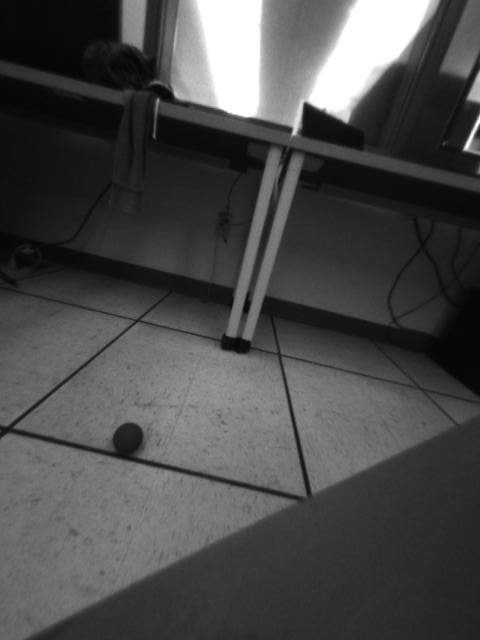dogtoy: (101, 414, 154, 467)
